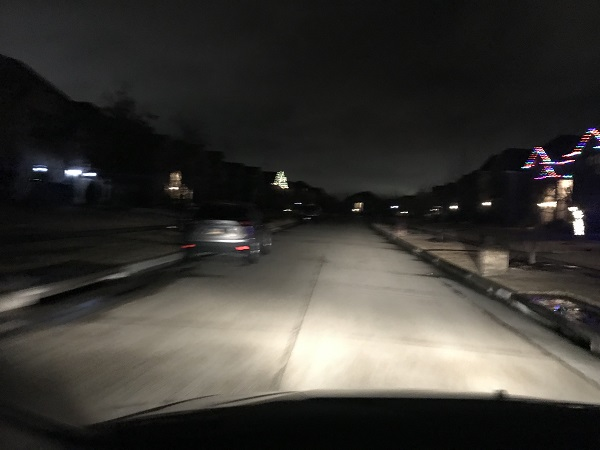car: (177, 202, 275, 263)
